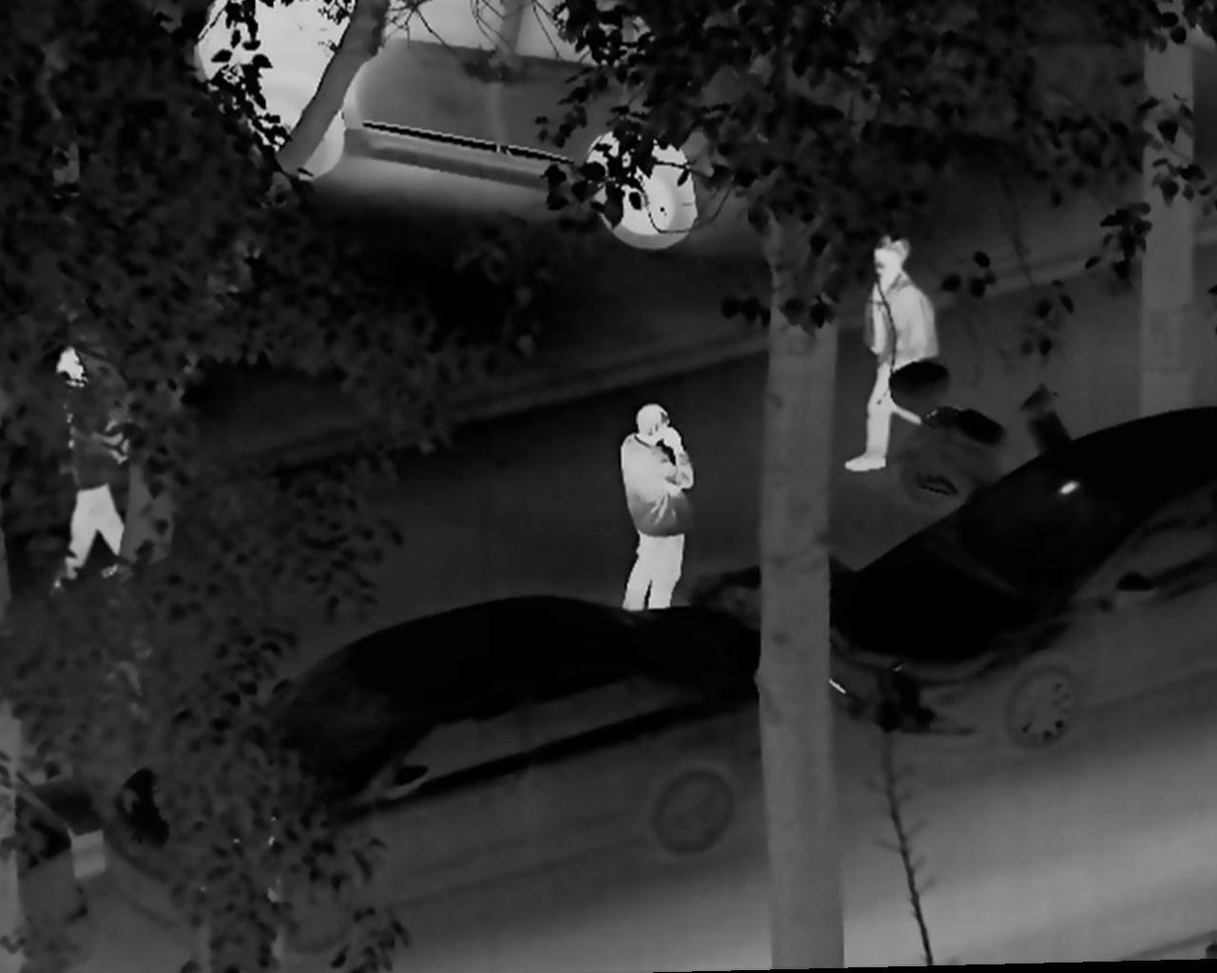person: (41, 338, 143, 597), (841, 235, 939, 475), (611, 400, 695, 617)
